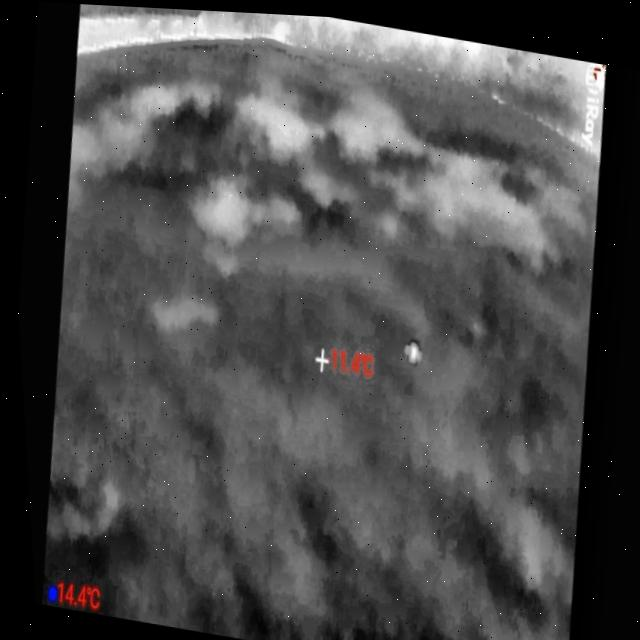drone: (397, 333, 417, 361)
